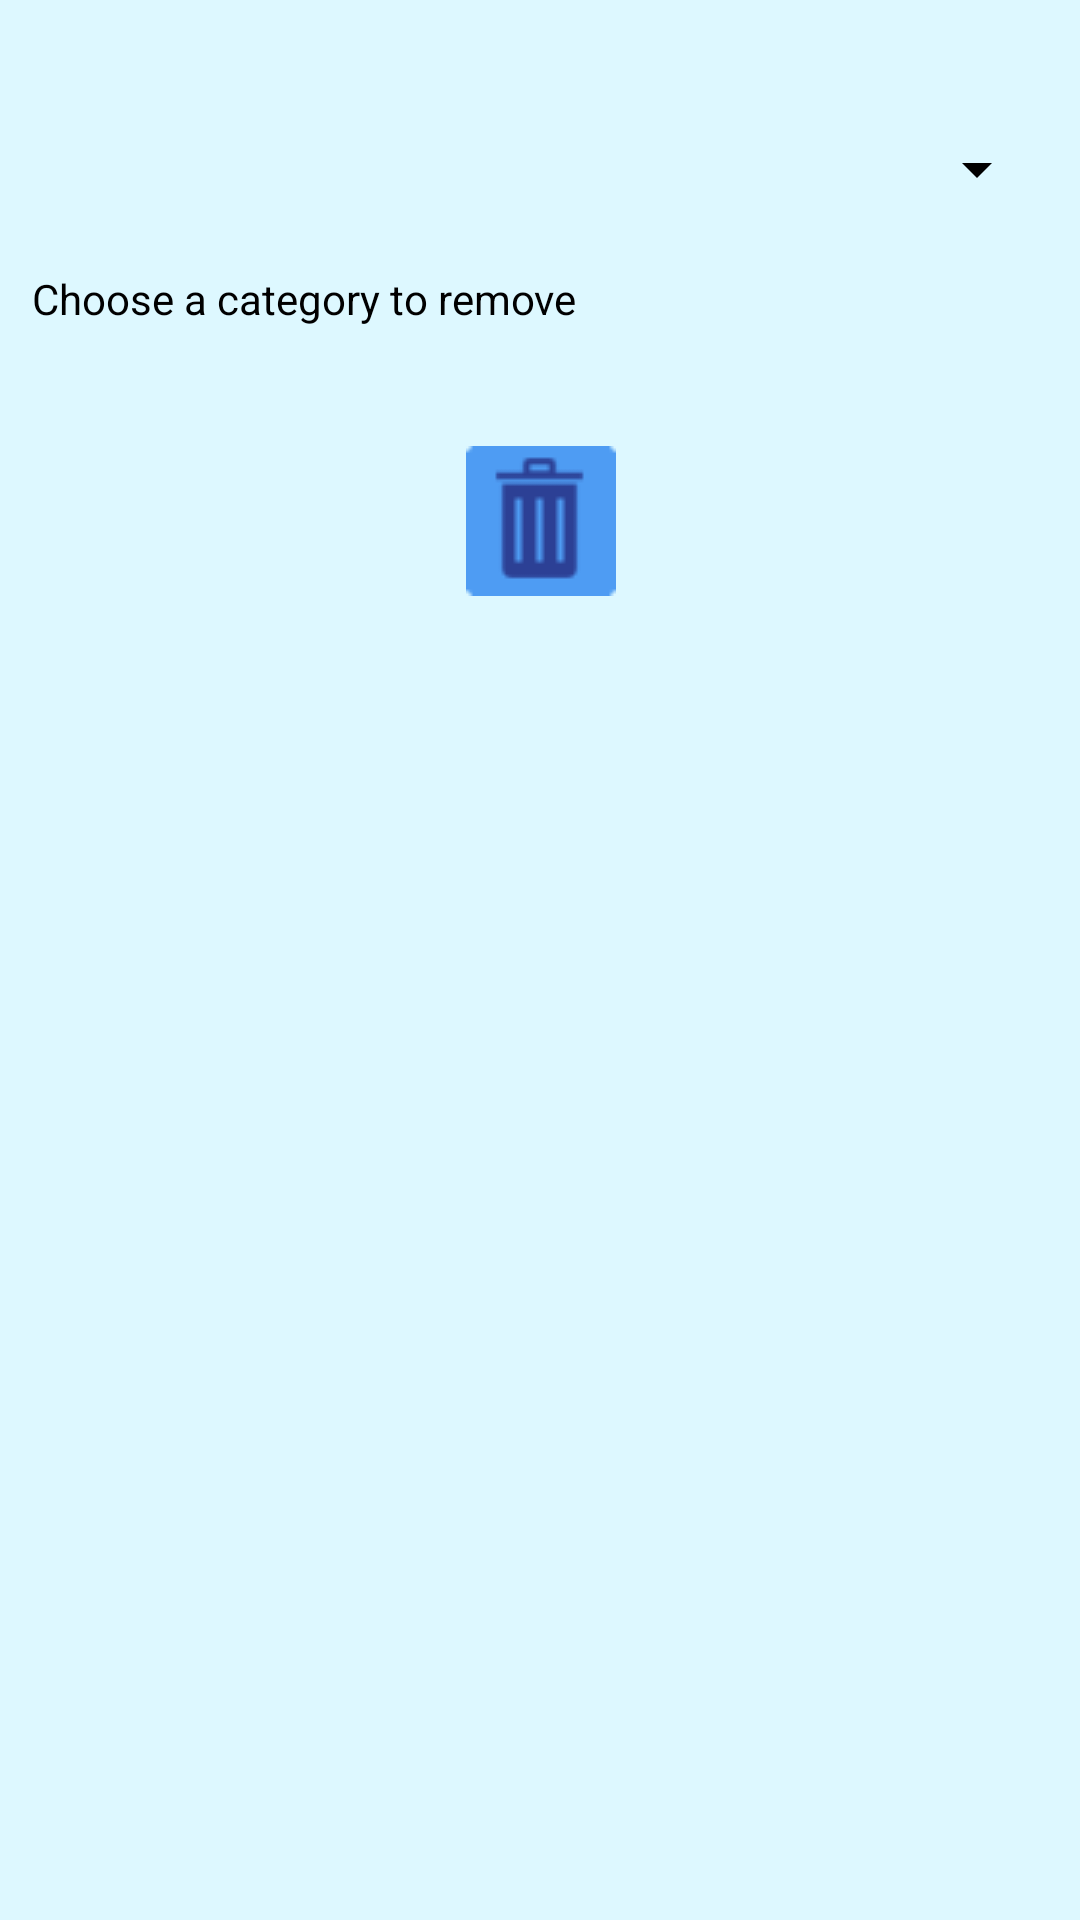

Where to tap for icons on this 1080w x 1920h app screen, as point (x, y):
trash: point (541, 521)
